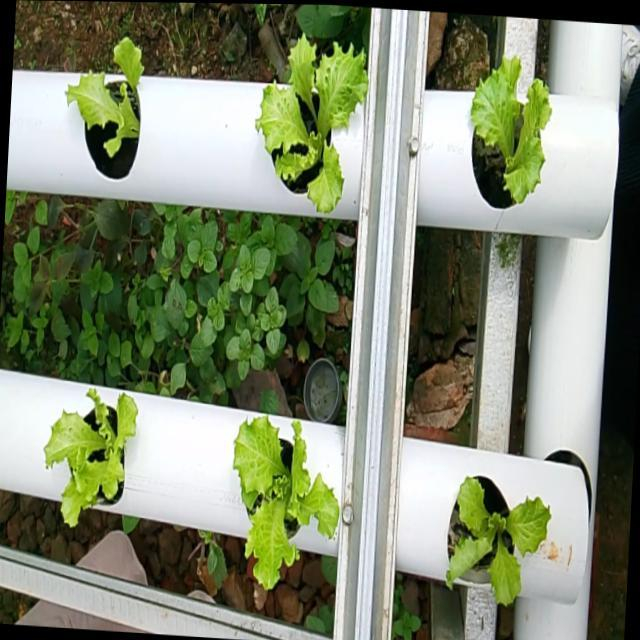Baby: (257, 30, 369, 210), (235, 411, 341, 584), (447, 469, 552, 600), (48, 387, 141, 525), (471, 53, 551, 205), (68, 39, 145, 181)
